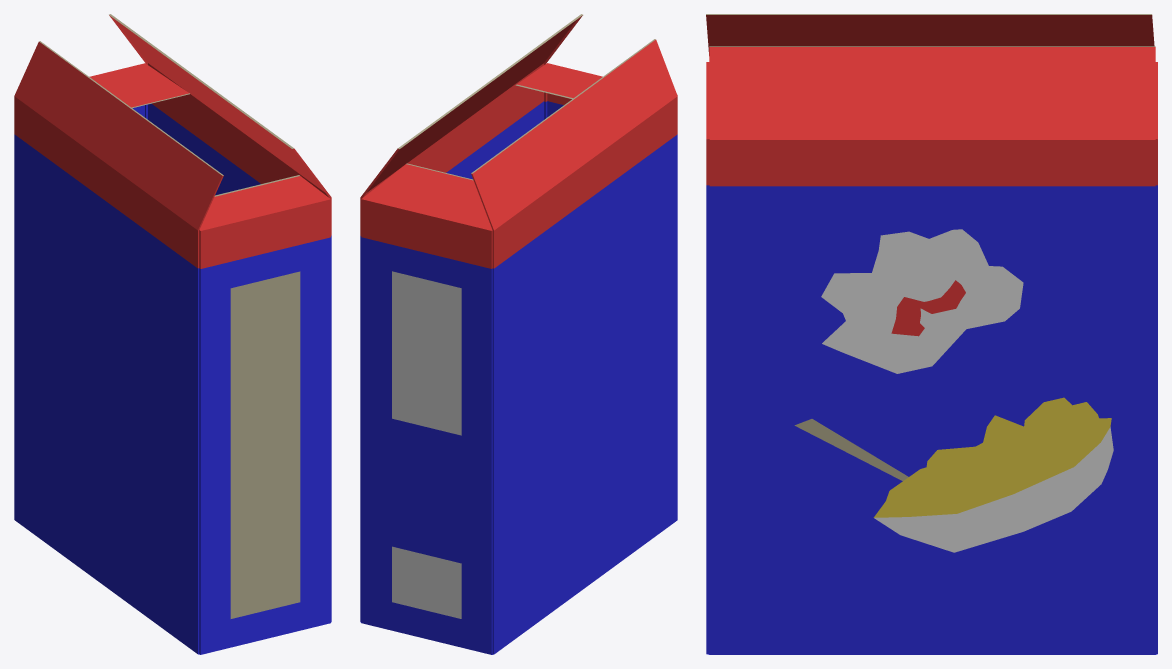
File: cereal.fbx
3 renders of one model, left to right at view 1: azimuth 30°, elevation 25°; view 2: azimuth 150°, elevation 25°; view 3: azimuth 270°, elevation 25°, orthographic. The views are drawn at different scales.
Parts seen in each view (by area): view 1: Cylinder.001; view 2: Cylinder.001; view 3: Cylinder.001.
Boxes of the visible parts, <box> form: Cylinder.001: <box>14,14,331,654</box>; Cylinder.001: <box>360,14,677,654</box>; Cylinder.001: <box>706,14,1157,654</box>.
Size of the model in its own units: 8.06 by 27.78 by 19.41.
